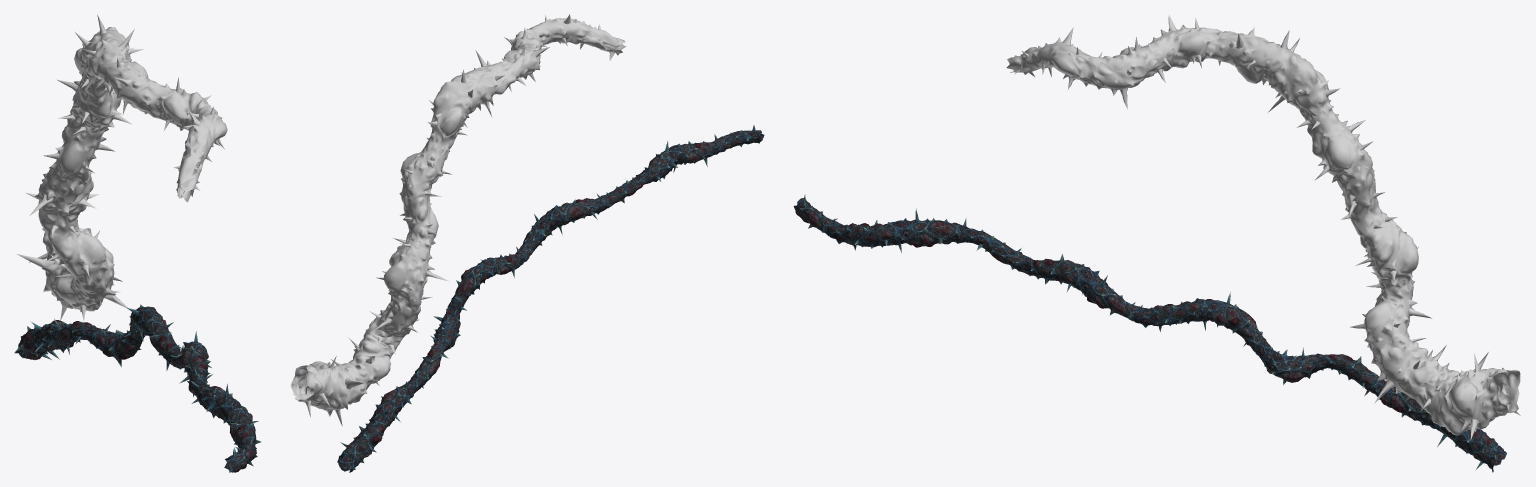
File: backup.fbx
3 views of the same model, side by side, from view 1: azimuth 30°, elevation 25°; view 2: azimuth 150°, elevation 25°; view 3: azimuth 270°, elevation 25° (orthographic). The views are drawn at different scales.
Visible parts, largest first — view 1: LODGroup_1_MainMesh_1_SubMesh_1, LODGroup_1_MainMesh_1_SubMesh_2; view 2: LODGroup_1_MainMesh_1_SubMesh_1, LODGroup_1_MainMesh_1_SubMesh_2; view 3: LODGroup_1_MainMesh_1_SubMesh_1, LODGroup_1_MainMesh_1_SubMesh_2.
Boxes of the visible parts, left/top/right/bottom form: LODGroup_1_MainMesh_1_SubMesh_1: left=16, top=14, right=227, bottom=321; LODGroup_1_MainMesh_1_SubMesh_2: left=14, top=304, right=261, bottom=472; LODGroup_1_MainMesh_1_SubMesh_1: left=290, top=14, right=626, bottom=426; LODGroup_1_MainMesh_1_SubMesh_2: left=337, top=125, right=764, bottom=472; LODGroup_1_MainMesh_1_SubMesh_1: left=1006, top=14, right=1520, bottom=440; LODGroup_1_MainMesh_1_SubMesh_2: left=793, top=194, right=1506, bottom=472.
Bounding box in the file's own units: 918 × 1583 × 2463.
